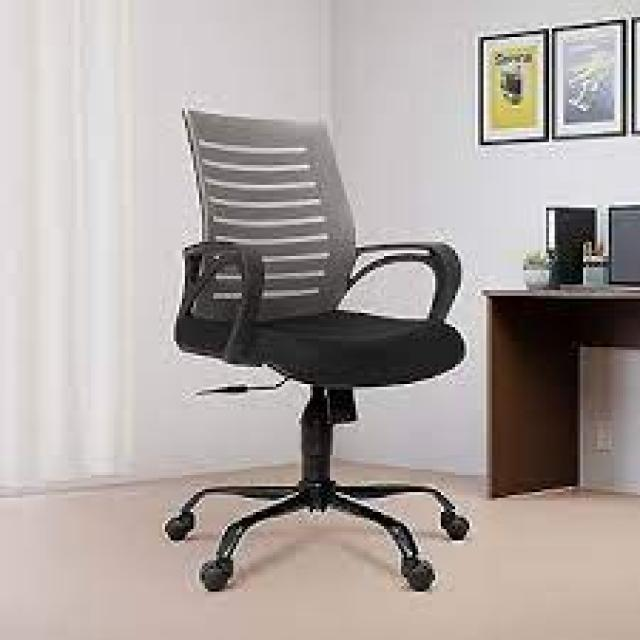chair: (81, 67, 486, 614)
